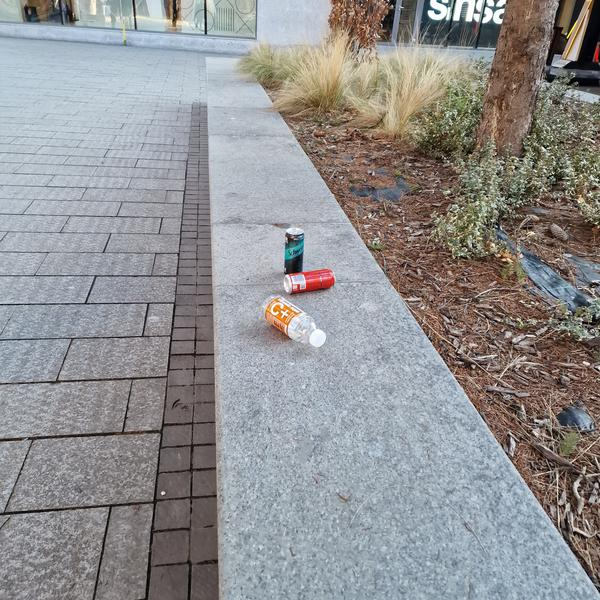can: (282, 267, 337, 295), (284, 227, 304, 276)
plastic_bottle: (255, 287, 333, 358)
